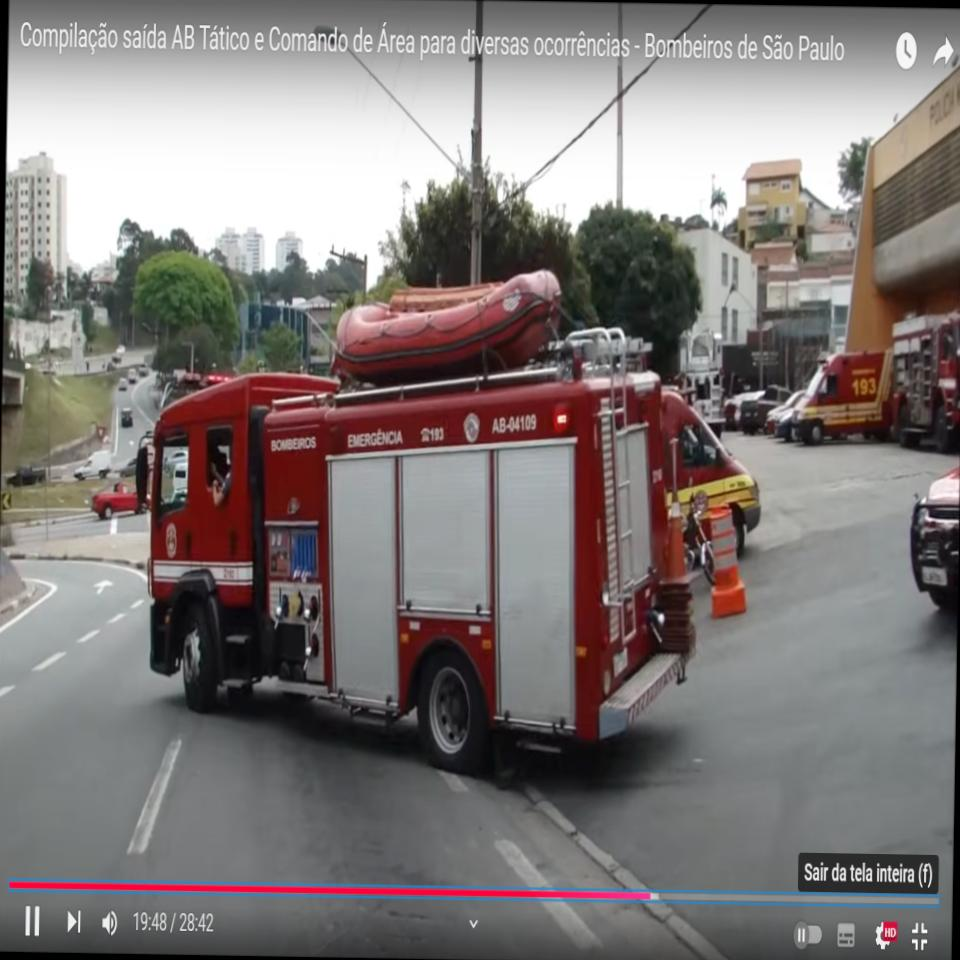viatura: (128, 263, 706, 774)
